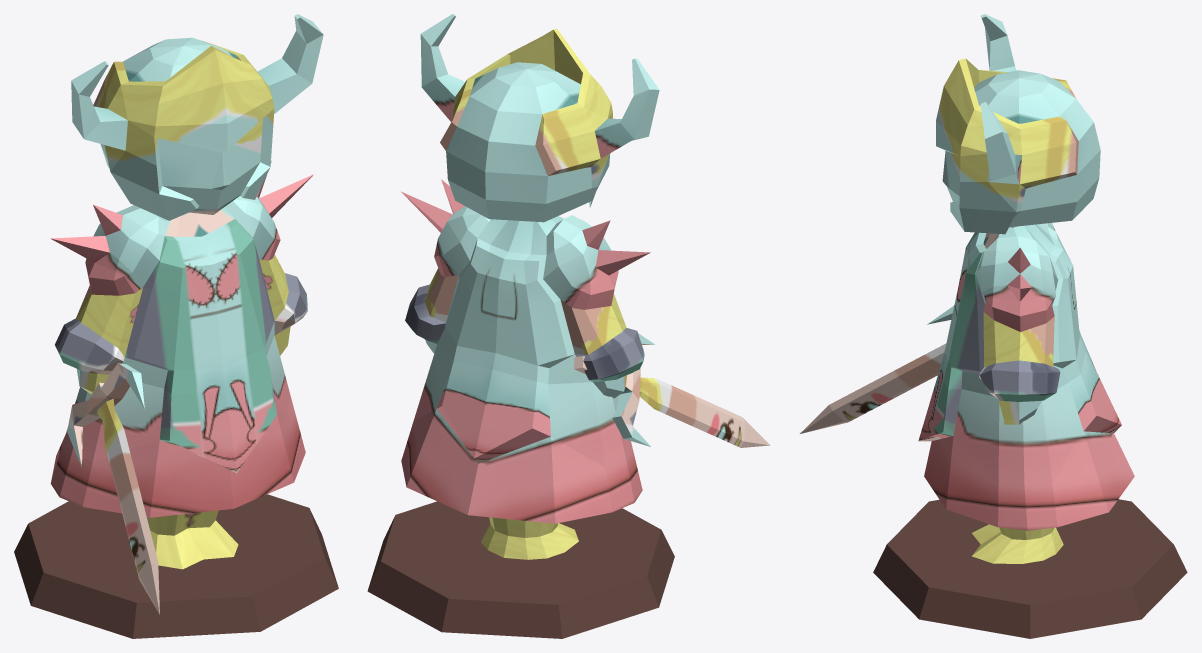
The model's file is Asset_Pawn_Nana.fbx.
3 views of the same model, side by side, from view 1: azimuth 30°, elevation 25°; view 2: azimuth 150°, elevation 25°; view 3: azimuth 270°, elevation 25° (orthographic). The views are drawn at different scales.
Parts seen in each view (by area): view 1: nana_body, Nana_stand, nana_sword; view 2: nana_body, Nana_stand, nana_sword; view 3: nana_body, Nana_stand, nana_sword.
Boxes of the visible parts, bbox=[...] form: nana_body: bbox=[50, 14, 323, 569]; Nana_stand: bbox=[14, 494, 338, 638]; nana_sword: bbox=[67, 363, 159, 614]; nana_body: bbox=[401, 14, 659, 559]; Nana_stand: bbox=[367, 501, 674, 638]; nana_sword: bbox=[574, 333, 770, 447]; nana_body: bbox=[918, 14, 1134, 563]; Nana_stand: bbox=[873, 499, 1187, 638]; nana_sword: bbox=[800, 305, 954, 433].
Bounding box in the file's own units: 26.3 × 47.48 × 32.46.
Materials: 2 (2 with a texture image).
